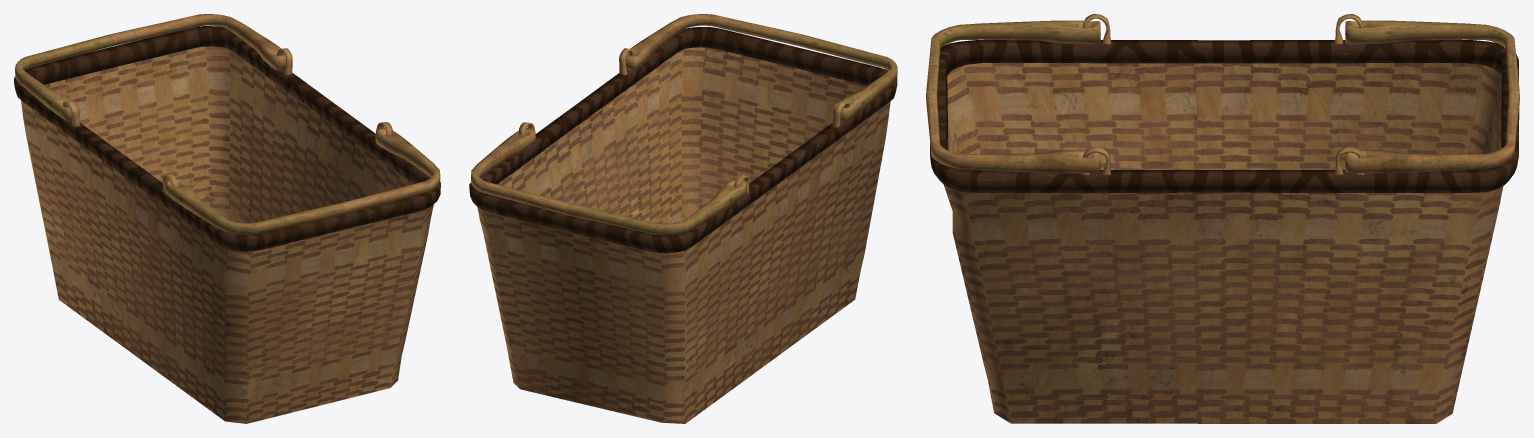
Rendered from obj_ash_basket_1e88c9.glb.
3 renders of one model, left to right at view 1: azimuth 30°, elevation 25°; view 2: azimuth 150°, elevation 25°; view 3: azimuth 270°, elevation 25°, orthographic. The views are drawn at different scales.
Parts seen in each view (by area): view 1: obj_ash_basket_1e88c9; view 2: obj_ash_basket_1e88c9; view 3: obj_ash_basket_1e88c9.
Part boxes in pixels (x1,y1,x2,y2): obj_ash_basket_1e88c9: (14, 14, 440, 423); obj_ash_basket_1e88c9: (469, 14, 897, 423); obj_ash_basket_1e88c9: (926, 14, 1519, 423).
Bounding box in the file's own units: 0.6175 × 0.6 × 1.12.
1 material, 1 textured.
